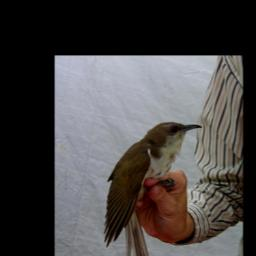Cuckoo: (105, 120, 203, 256)
